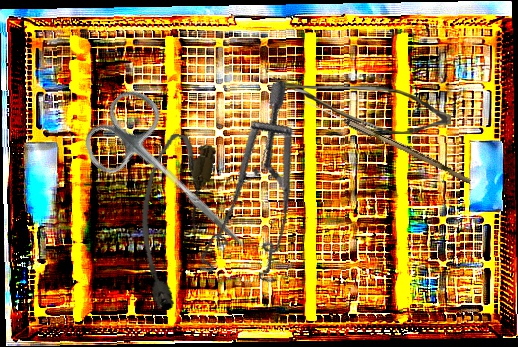Cannula: (122, 130, 218, 313)
Iris Scissors: (73, 81, 276, 277)
Micro Scissor: (269, 77, 452, 135)
Speculum: (158, 80, 334, 300)
Surgical Spoon: (300, 97, 474, 184)
